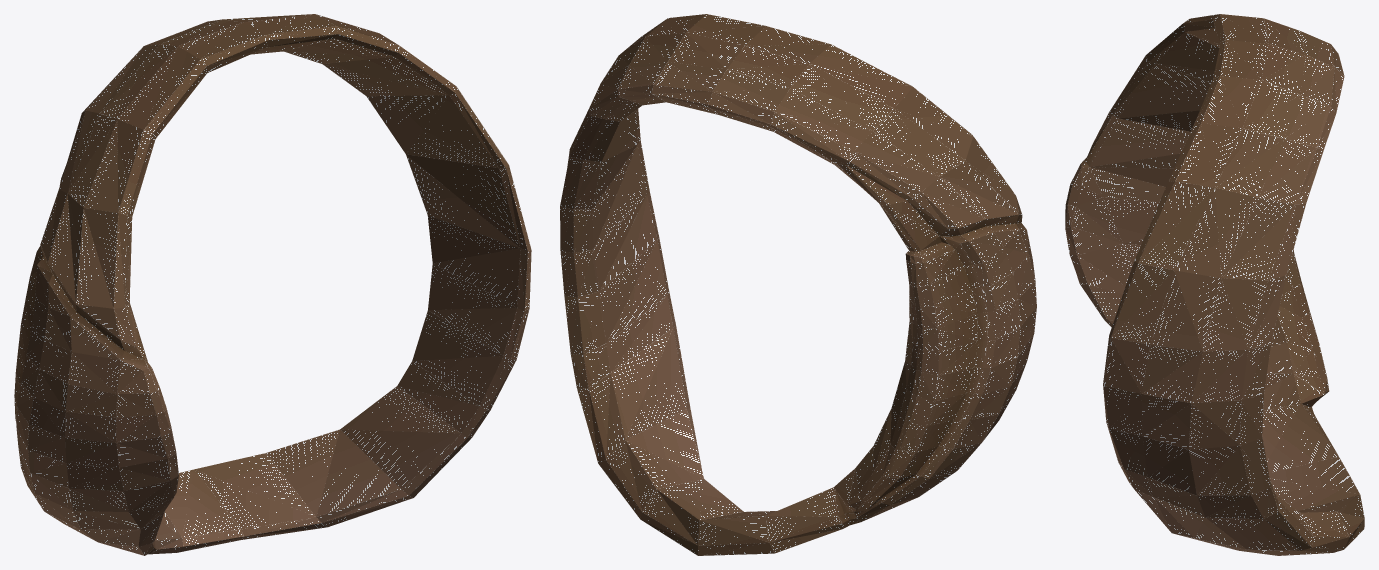
File: CharSkyKid_Horn_AP31Bandage.glb
3 views of the same model, side by side, from view 1: azimuth 30°, elevation 25°; view 2: azimuth 150°, elevation 25°; view 3: azimuth 270°, elevation 25° (orthographic). The views are drawn at different scales.
Visible parts, largest first — view 1: CharSkyKid_Horn_AP31Bandage; view 2: CharSkyKid_Horn_AP31Bandage; view 3: CharSkyKid_Horn_AP31Bandage.
Part boxes in pixels (x1=…): CharSkyKid_Horn_AP31Bandage: x1=14, y1=14, x2=531, y2=555; CharSkyKid_Horn_AP31Bandage: x1=560, y1=14, x2=1036, y2=555; CharSkyKid_Horn_AP31Bandage: x1=1065, y1=14, x2=1364, y2=555.
Size of the model in its own units: 2.65 by 2.8 by 1.55.
Materials: 1 (1 with a texture image).
